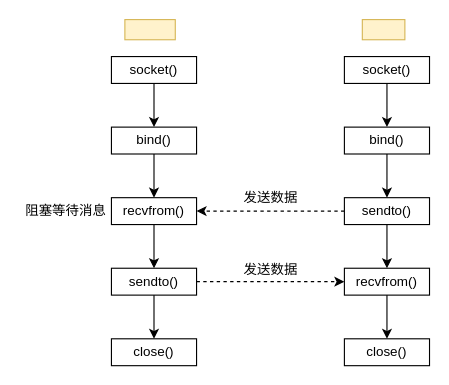
Image size: 449x385. Some labels were removed from this diagram. Each missing label, with the box of its shape:
client: (361, 18, 405, 40)
Server: (124, 18, 175, 40)
